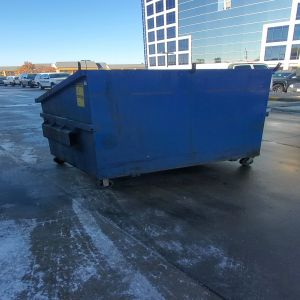Dumpster: (39, 69, 274, 187)
